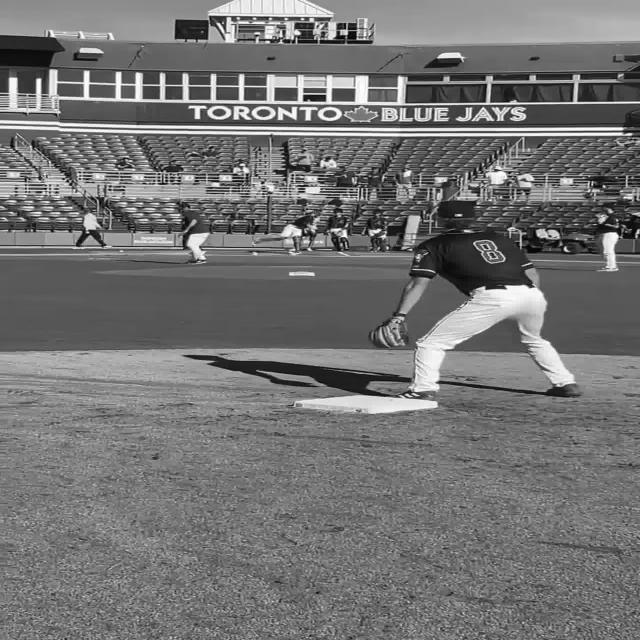base: (297, 396, 444, 414)
baseball_glove: (368, 316, 410, 348)
shoe: (394, 389, 438, 401), (550, 383, 580, 397), (596, 267, 618, 272), (190, 259, 207, 264), (72, 246, 84, 249), (101, 245, 112, 248)
